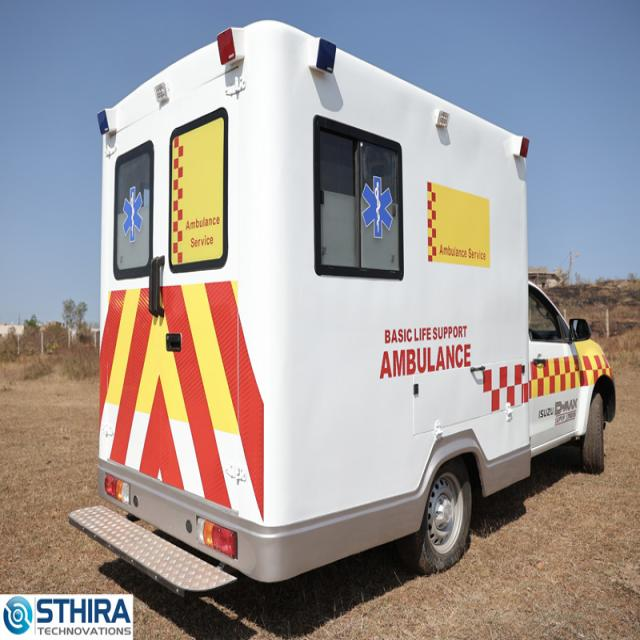emergency: (70, 22, 615, 594)
